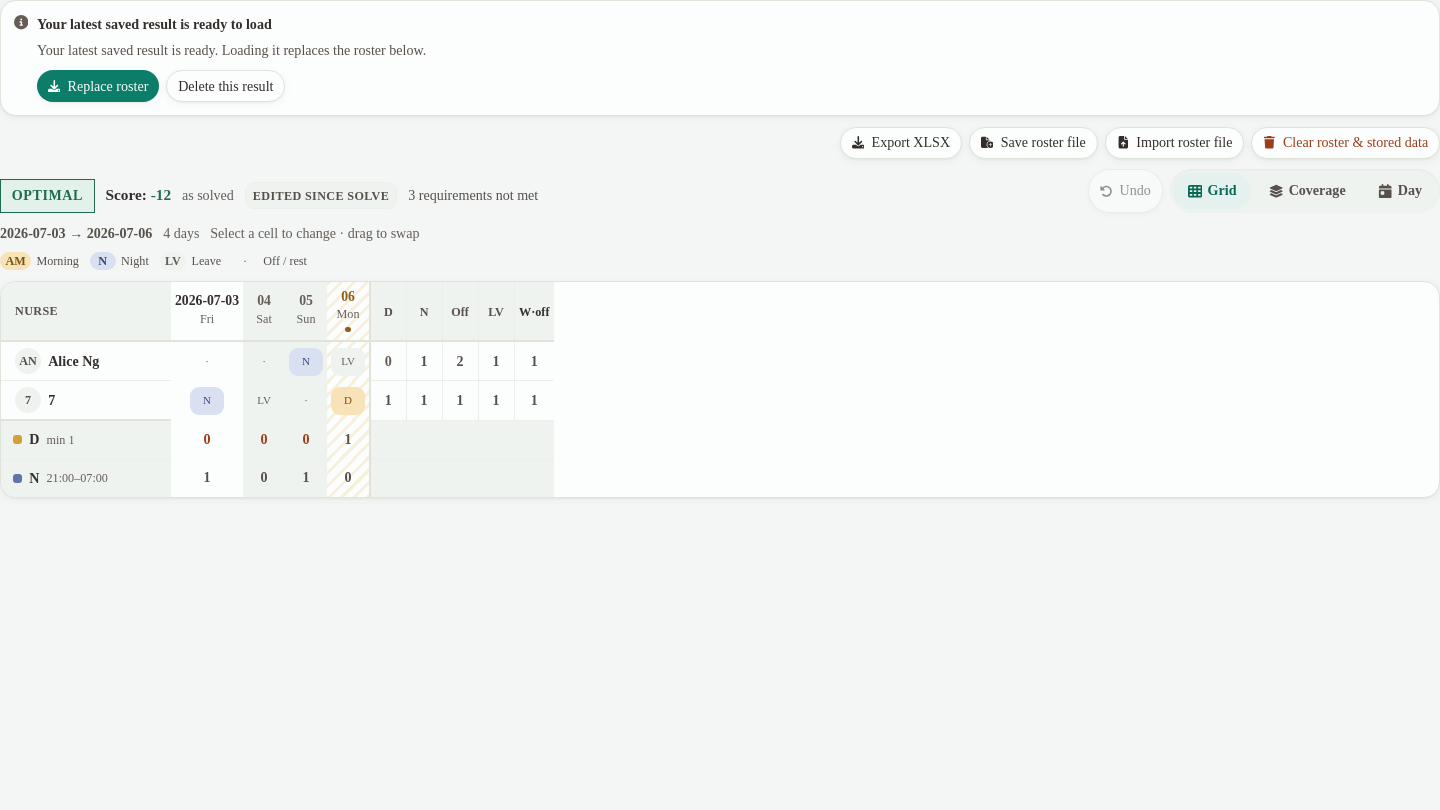
Test: RosterSection — replacing a working roster › counts the edits that will be lost and offers to save the roster file first
Click the button with test id "roster-candidate-load".
click(98, 86)  # box [37, 70, 159, 102]
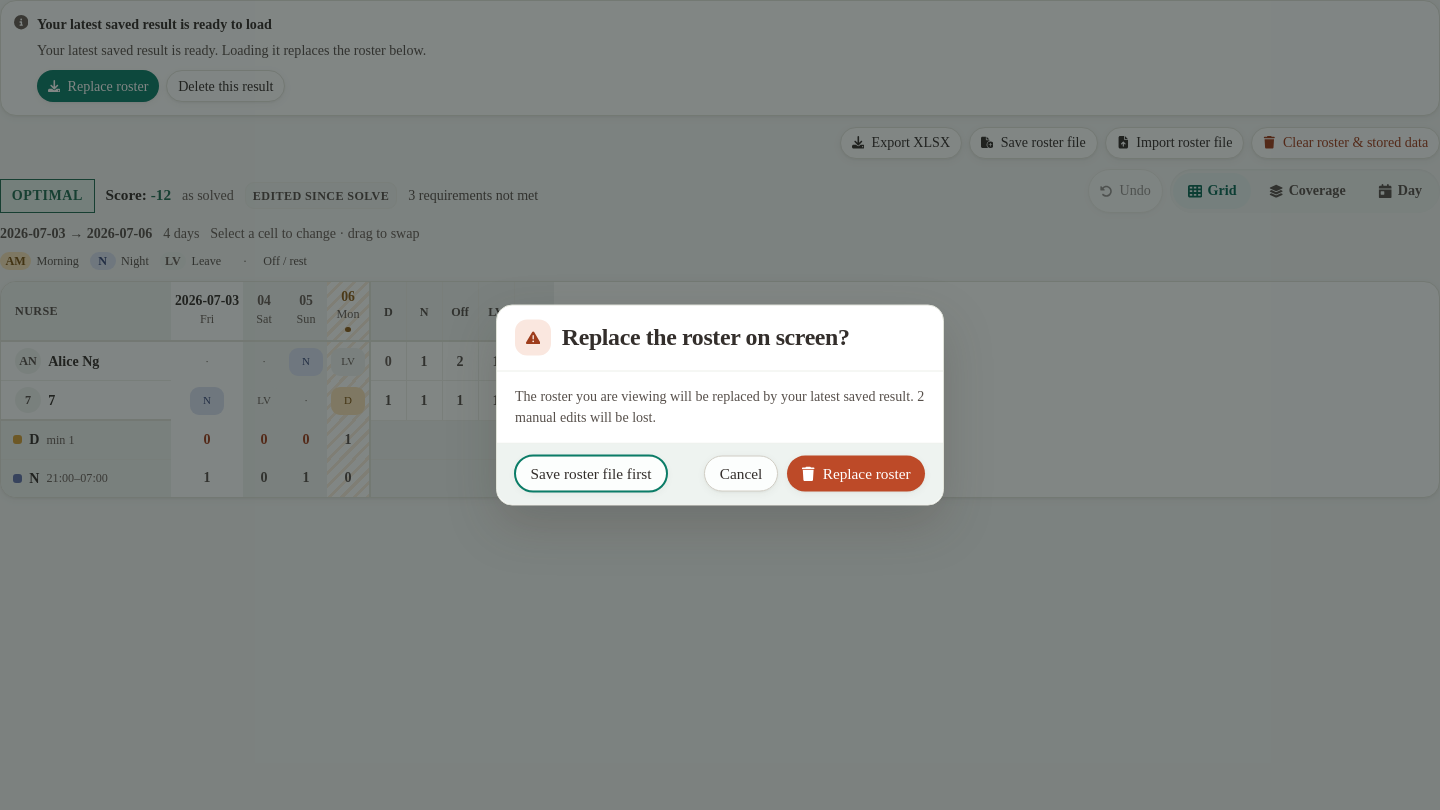
Check: the dialog with test id "confirm-dialog" is shown, box [496, 304, 944, 506]
Check: the dialog with test id "confirm-dialog" shows "2 manual edits will be lost.", box [515, 388, 924, 425]
Check: the button with test id "confirm-dialog-secondary" reads "Save roster file first", box [515, 456, 667, 492]
